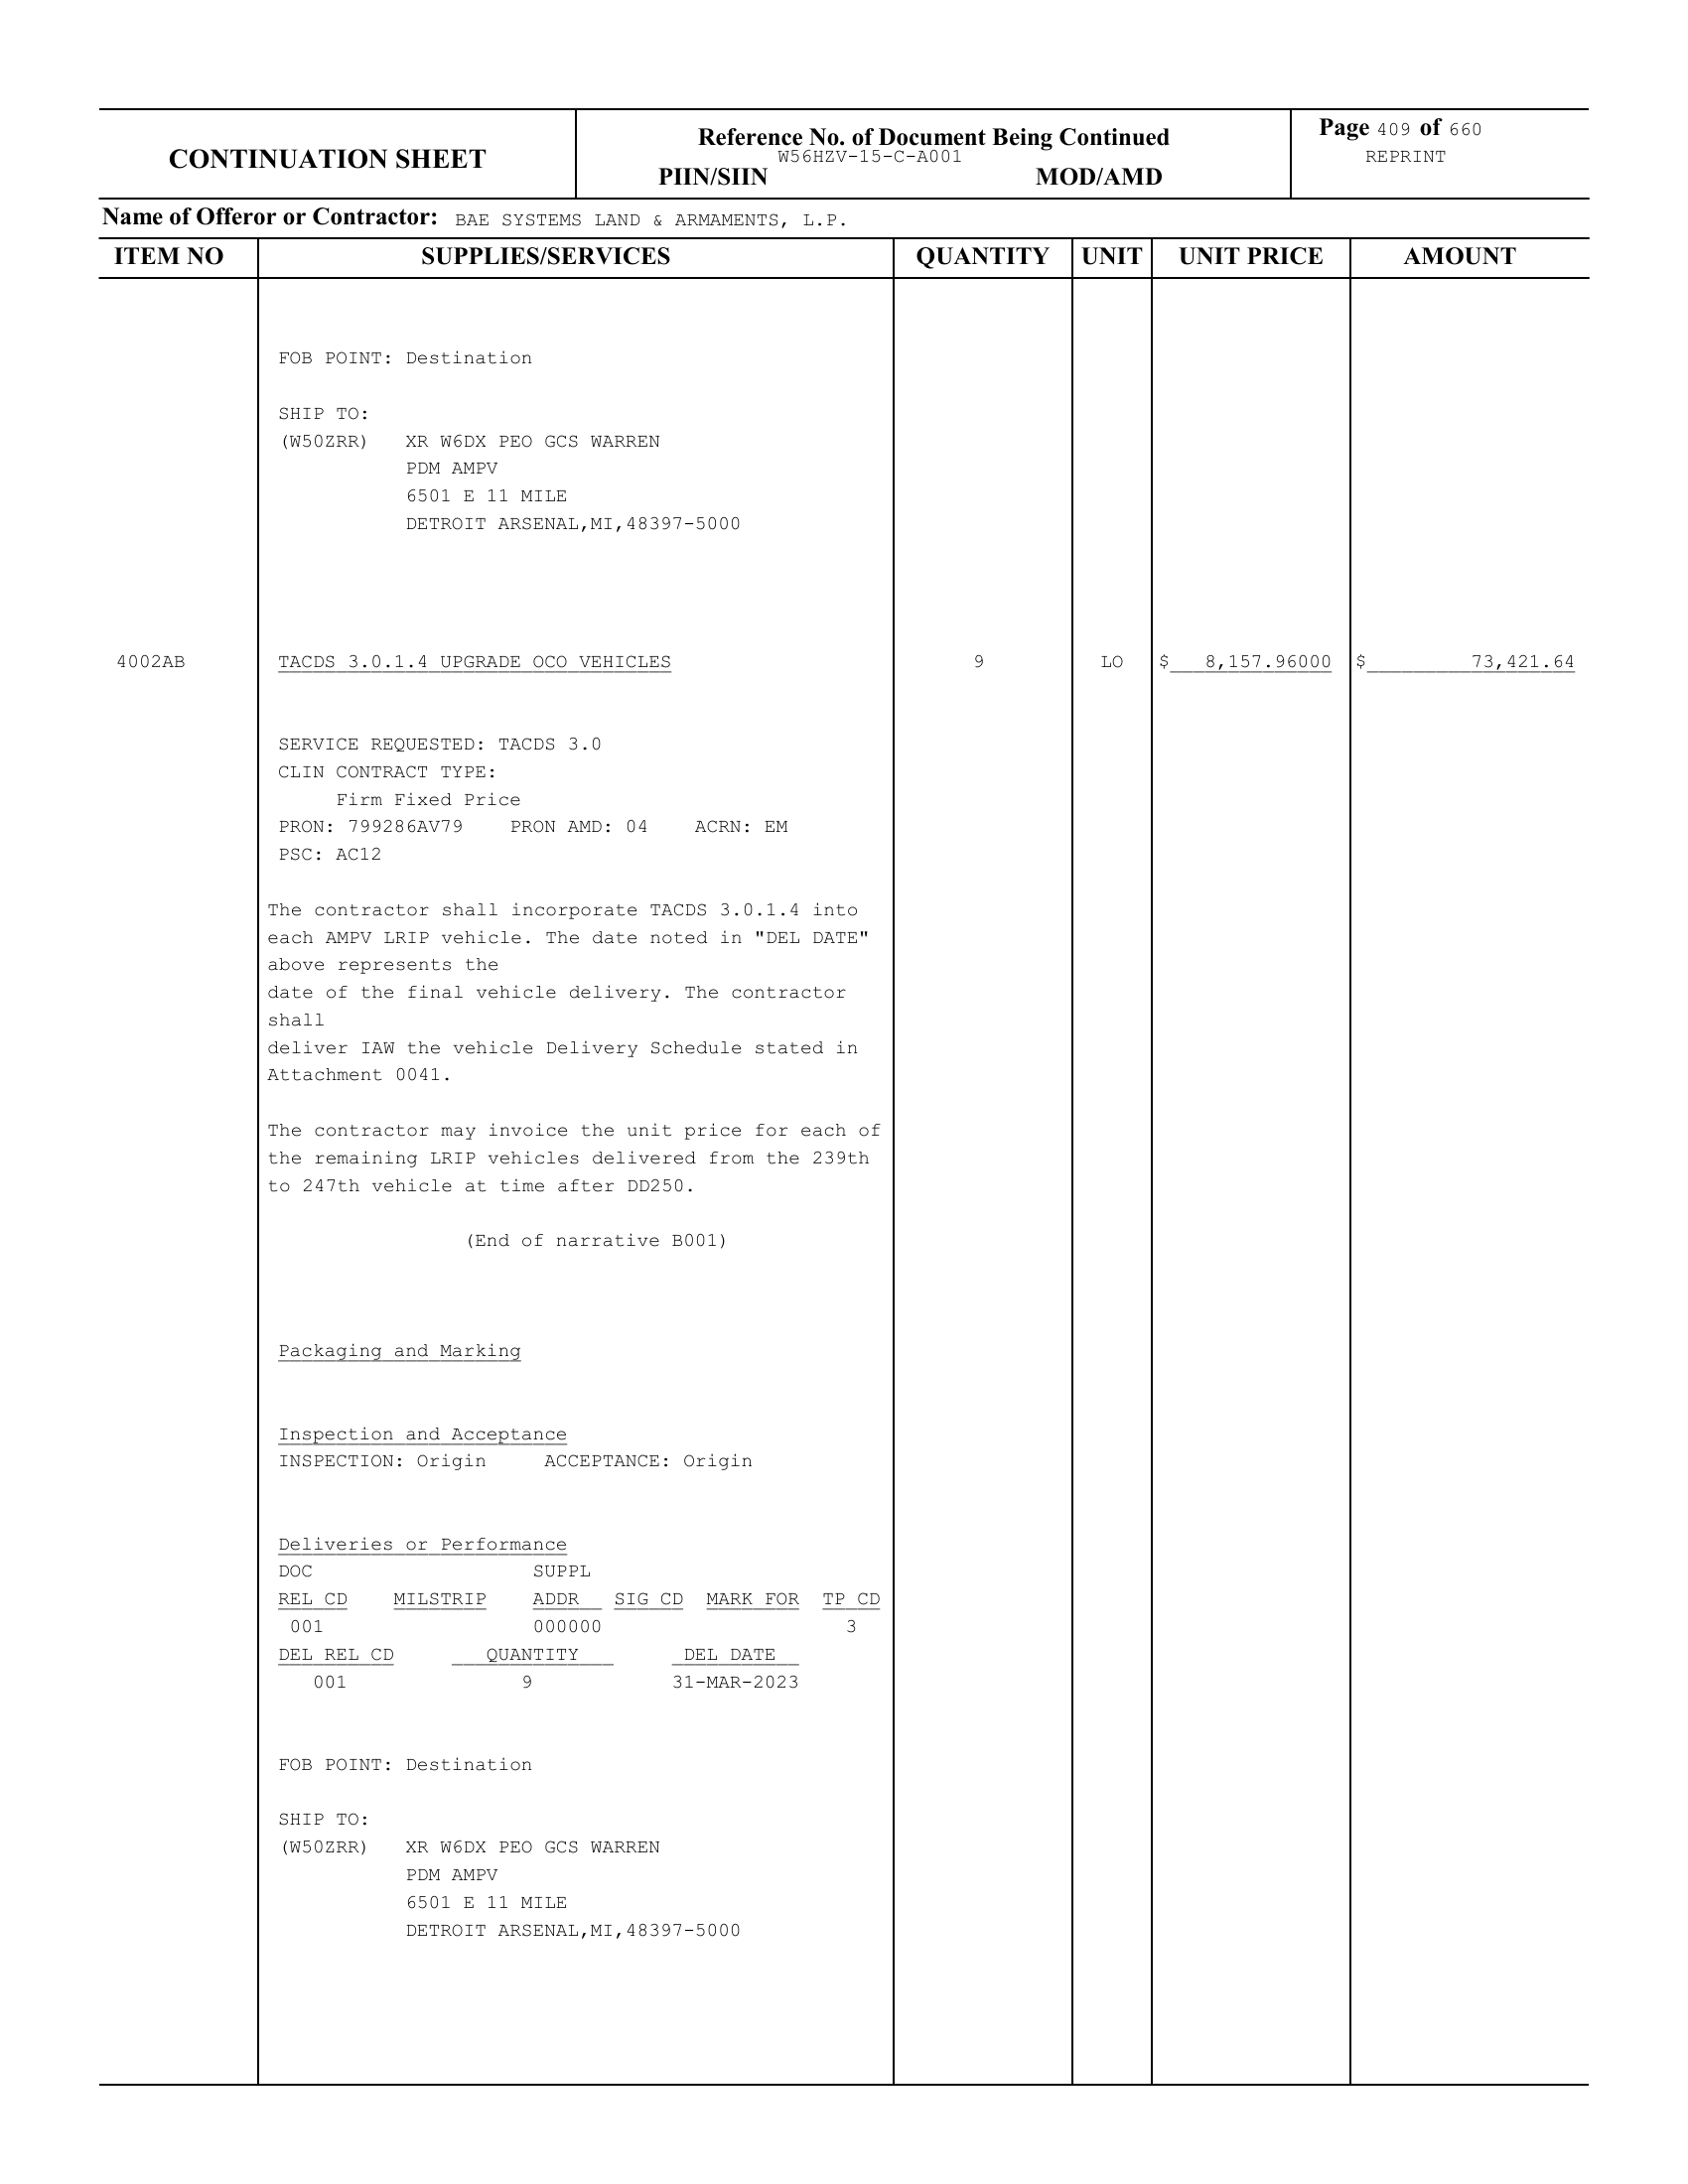table: (94, 236, 1583, 2086)
table column: (257, 239, 890, 2083), (1348, 238, 1587, 2081), (1153, 239, 1349, 2085), (894, 238, 1071, 2083), (92, 234, 255, 2083), (1071, 239, 1153, 2085)
table column header: (92, 236, 1585, 278)
table row: (92, 583, 1587, 2081), (90, 275, 1587, 583)
